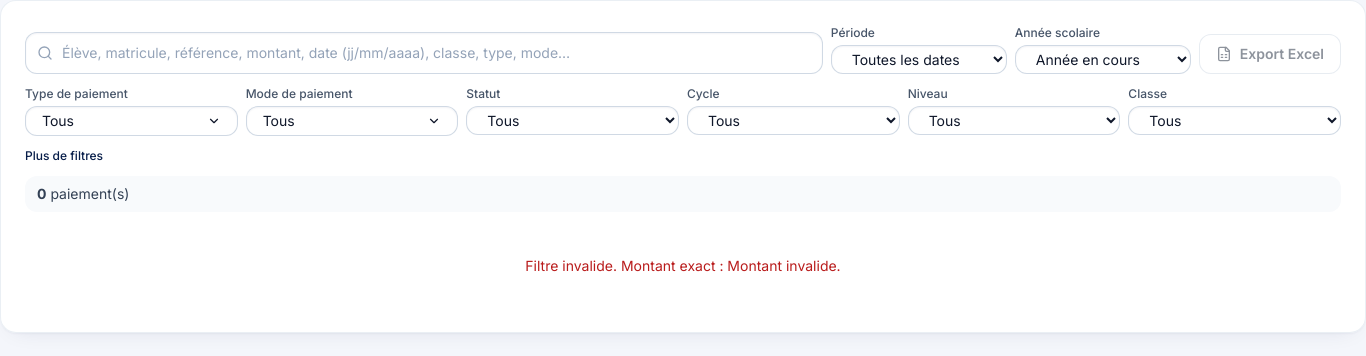
page Paiements : recherche et filtres › erreur de filtre explicite (400) et sélection vide expliquée
Expected: the message with test id "paiements-erreur" shows "Filtre invalide. Montant exact : Montant invalide", [525,257,841,274]
Select "Annulés" in the dropdown with test id "pf-statut" at (573, 120), box [466,106,679,135]
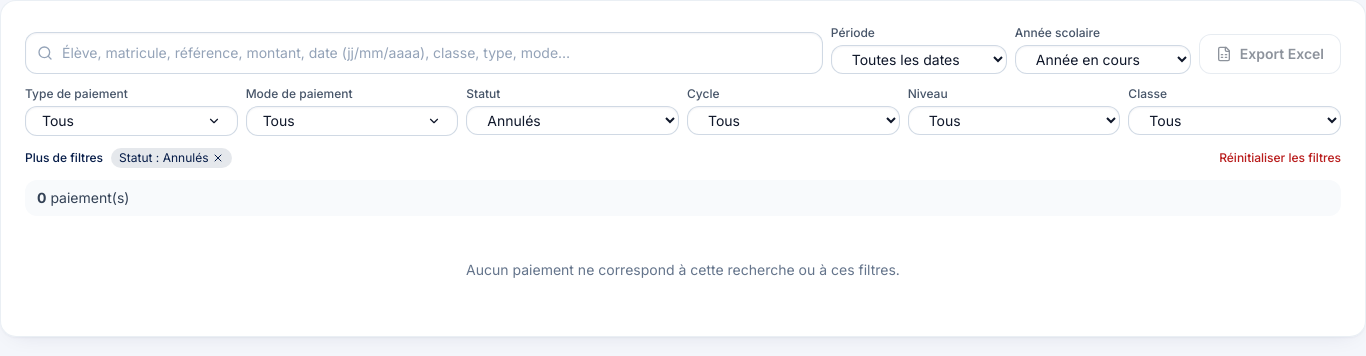
Expected: the text with test id "paiements-vide" shows "Aucun paiement ne correspond", [466,261,900,278]
